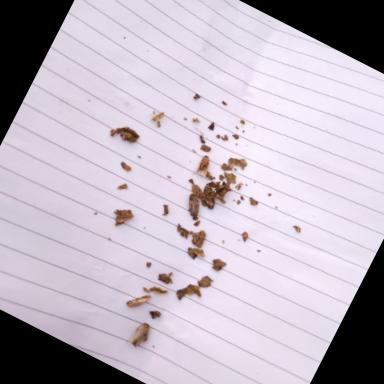pbw: (194, 180, 224, 212), (122, 286, 152, 316), (127, 319, 154, 350), (179, 192, 205, 218), (193, 152, 213, 178)
